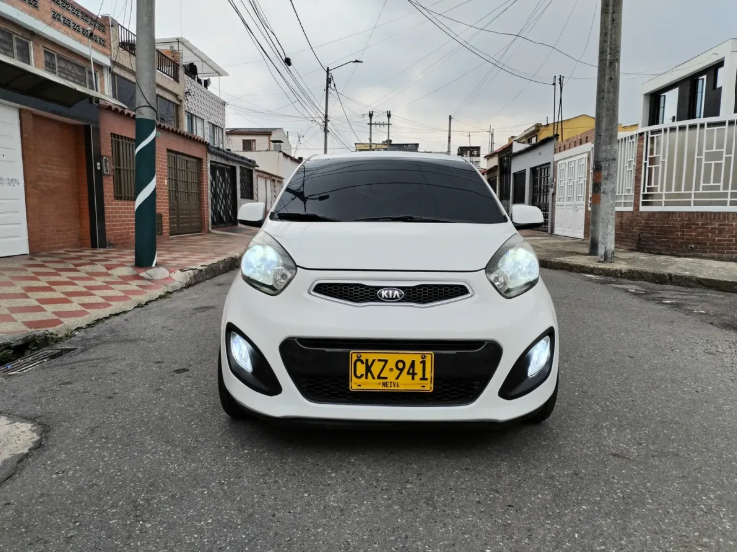placa: (351, 351, 433, 394)
